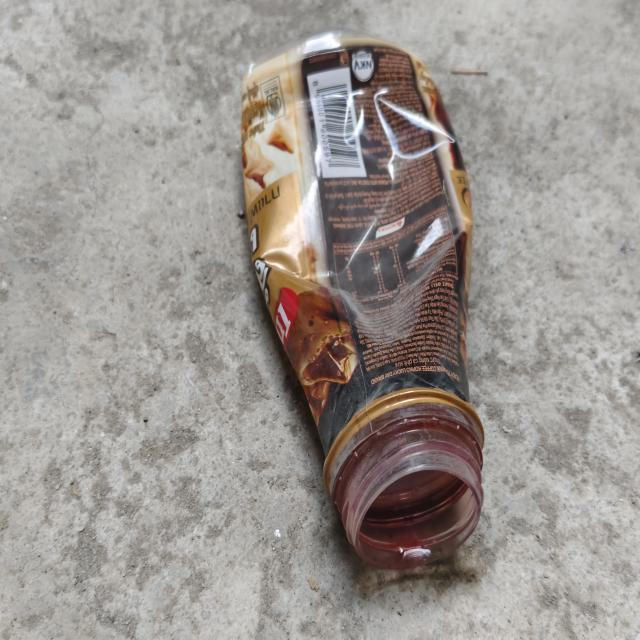Bottle: (241, 33, 484, 572)
